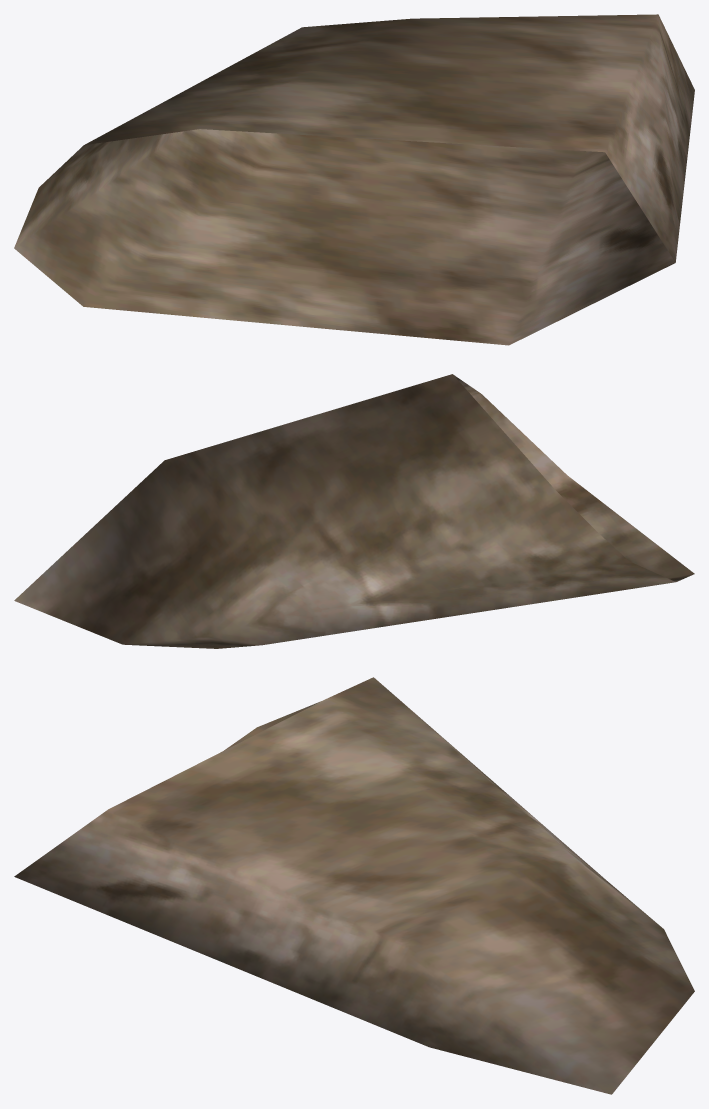
The model's file is OVERHILL_A_01_ROCK03.fbx.
3 views of the same model, one above another, from view 1: azimuth 30°, elevation 25°; view 2: azimuth 150°, elevation 25°; view 3: azimuth 270°, elevation 25° (orthographic). The views are drawn at different scales.
Visible parts, largest first — view 1: OVERHILL_A_01_ROCK03; view 2: OVERHILL_A_01_ROCK03; view 3: OVERHILL_A_01_ROCK03.
Part boxes in pixels (left/top/right/bottom): OVERHILL_A_01_ROCK03: left=14, top=14, right=694, bottom=345; OVERHILL_A_01_ROCK03: left=14, top=374, right=694, bottom=648; OVERHILL_A_01_ROCK03: left=14, top=677, right=694, bottom=1094.
Bounding box in the file's own units: 25414 × 6043 × 22928.
Materials: 1 (1 with a texture image).
